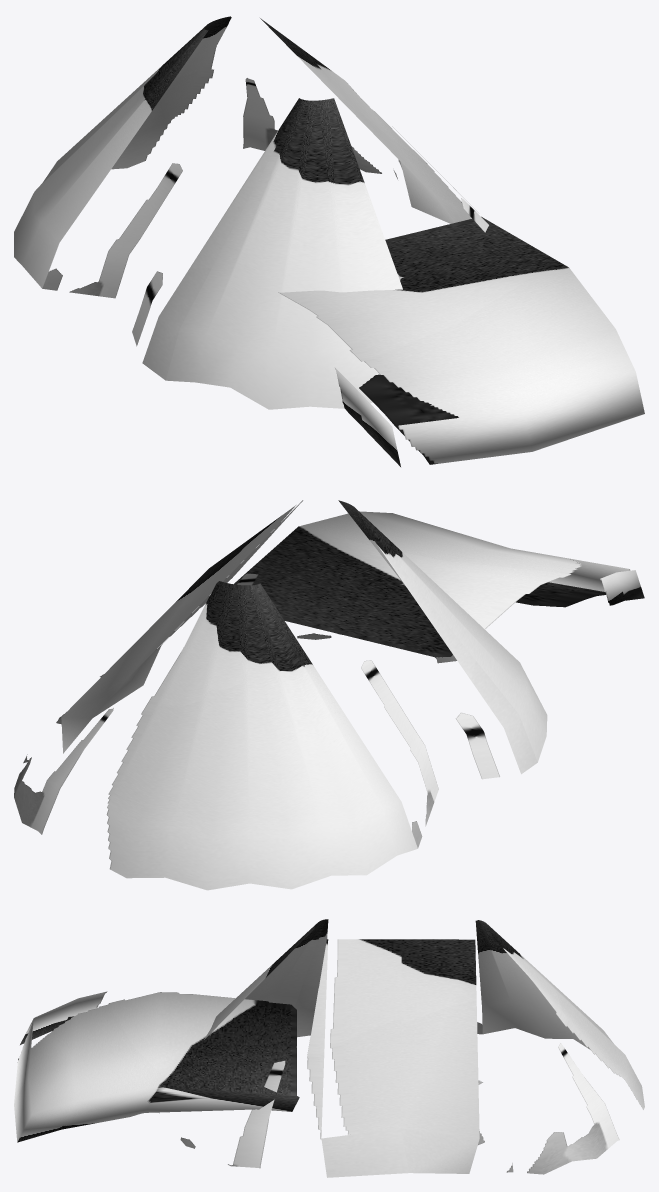
The model's file is roof_corral_01.dae.
3 renders of one model, top to bottom at view 1: azimuth 30°, elevation 25°; view 2: azimuth 150°, elevation 25°; view 3: azimuth 270°, elevation 25°, orthographic. The views are drawn at different scales.
Visible parts, largest first — view 1: roof_corral_01; view 2: roof_corral_01; view 3: roof_corral_01.
Part boxes in pixels (x1,y1,x2,y2): roof_corral_01: (14,16,644,466); roof_corral_01: (14,500,644,890); roof_corral_01: (14,919,644,1177).
Size of the model in its own units: 8.9 by 16.39 by 5.31.
